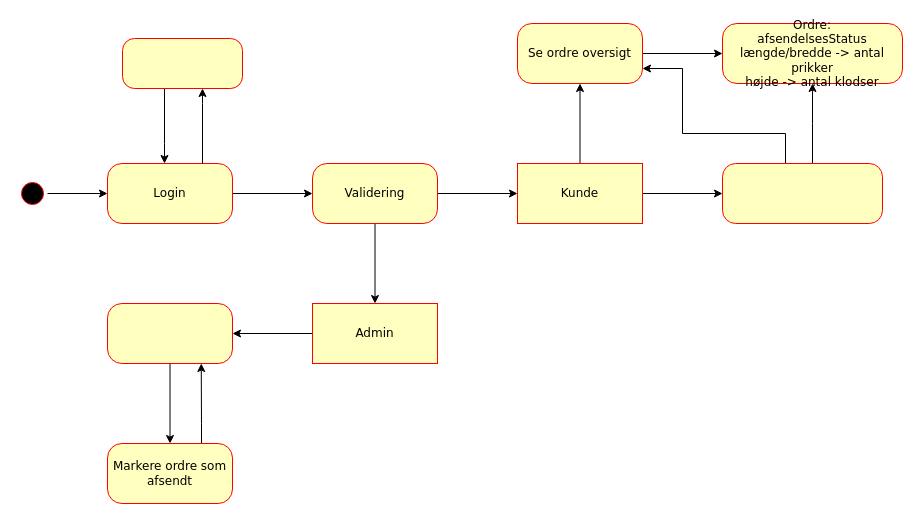
Some shapes in this 920 by 521 pixel diagram are drawn without their labels. Here are the shapes that lost their labels. From the top down, the centre of each, then its label:
At point (182, 63): "Registrering".
At point (802, 193): "Ordre hus: længde/bredde -> antal prikker højde -> antal klodser".
At point (169, 333): "Se alle ordrer".
